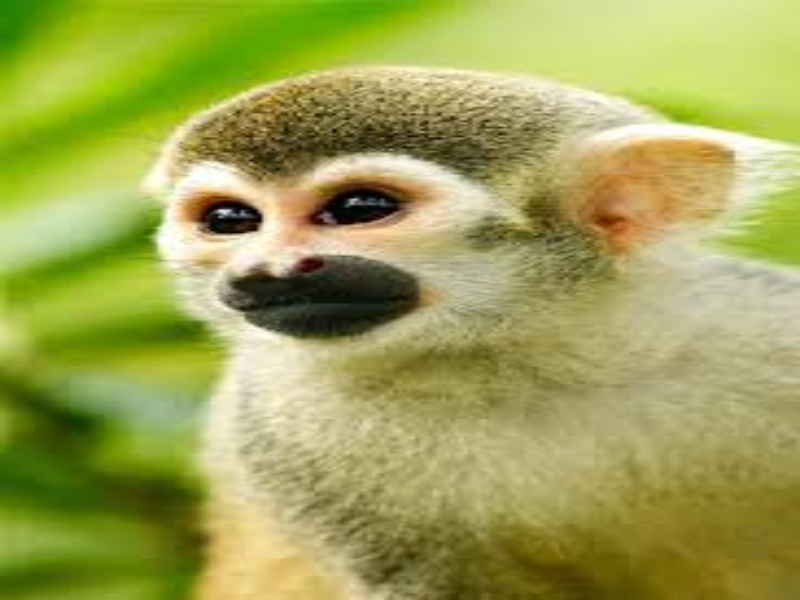monkey: (128, 70, 743, 528)
